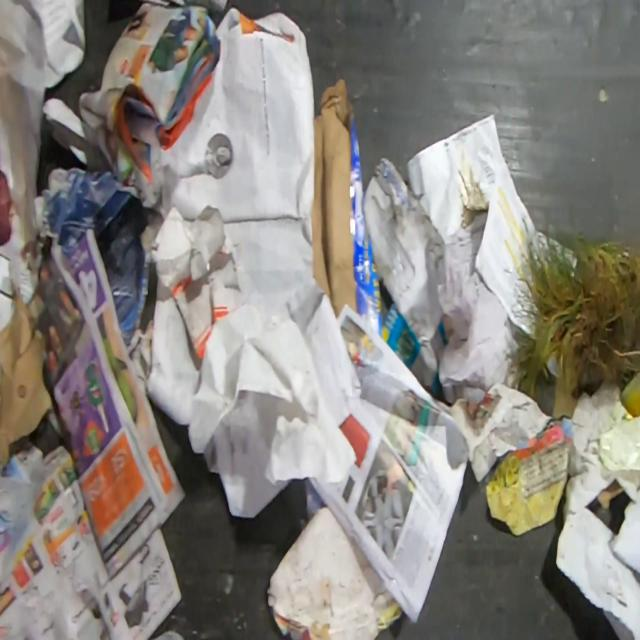cardboard: (40, 165, 164, 358), (311, 76, 384, 342), (266, 504, 406, 640), (149, 205, 243, 370), (0, 281, 54, 470), (551, 376, 579, 421), (595, 480, 626, 511)
